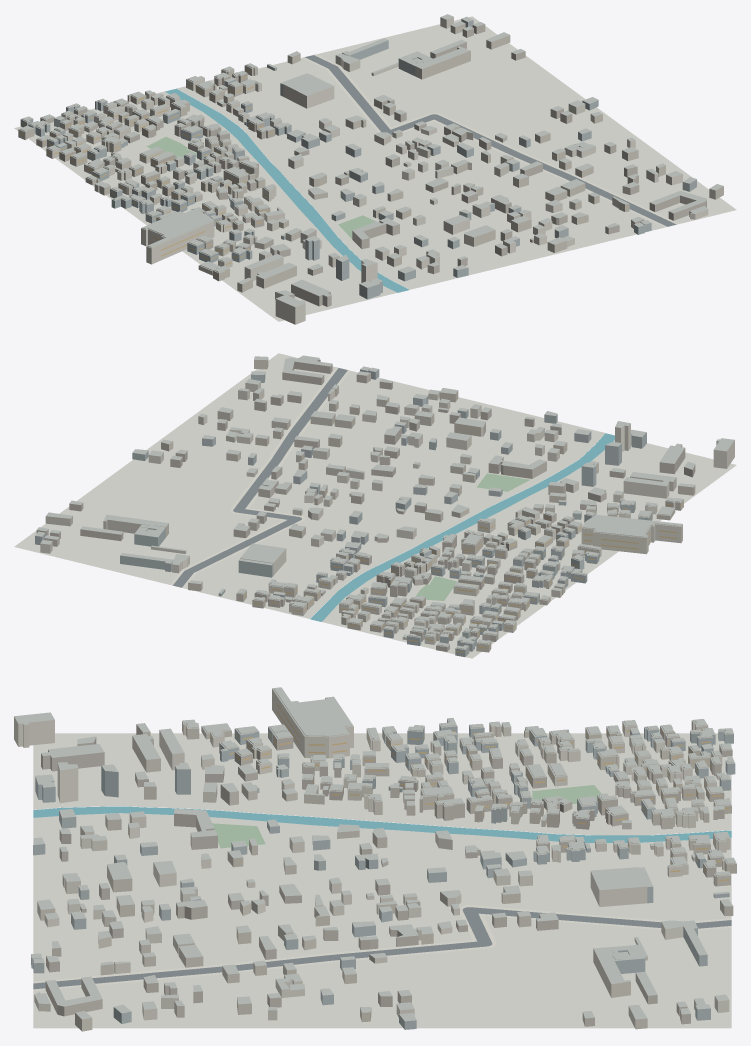
The picture shows the model from 3 angles, top to bottom: view 1: azimuth 30°, elevation 25°; view 2: azimuth 150°, elevation 25°; view 3: azimuth 270°, elevation 25°; orthographic projection. The views are drawn at different scales.
Parts seen in each view (by area): view 1: city; view 2: city; view 3: city.
Part boxes in pixels (x1,y1,x2,y2): city: (14,14,736,324); city: (14,353,736,658); city: (14,687,736,1031).
Size of the model in its own units: 548 by 26.18 by 518.
